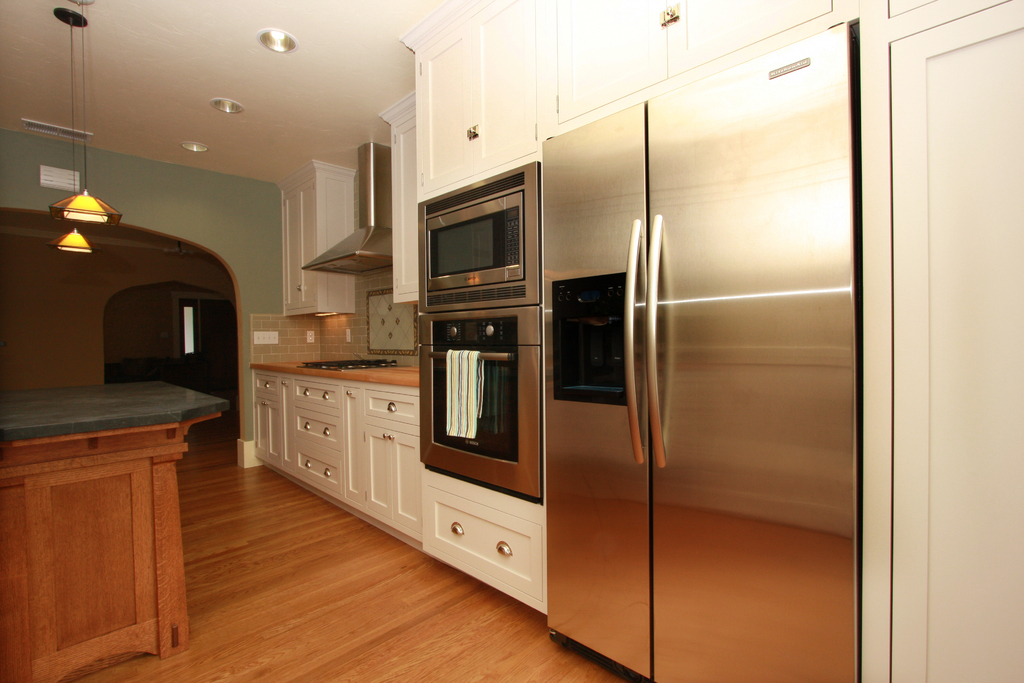cabinet door: (558, 13, 665, 87), (430, 508, 538, 581), (482, 24, 542, 141), (428, 52, 478, 167), (673, 17, 819, 56), (396, 125, 419, 289), (358, 428, 396, 516), (390, 439, 425, 526), (280, 194, 306, 302), (258, 397, 285, 451), (366, 393, 420, 416), (247, 372, 286, 397), (294, 409, 321, 444), (321, 452, 345, 490), (316, 415, 342, 448), (294, 448, 322, 476), (287, 375, 318, 397), (318, 389, 340, 410)
handle: (644, 225, 679, 447), (621, 222, 648, 450), (425, 344, 515, 364), (491, 535, 515, 560), (444, 515, 466, 539), (318, 420, 335, 443), (297, 381, 313, 405), (319, 462, 337, 481), (300, 415, 316, 435), (383, 397, 399, 415), (302, 456, 315, 477), (258, 378, 275, 391), (318, 388, 334, 401)
refrigerator door: (652, 105, 847, 683), (540, 144, 650, 662)
